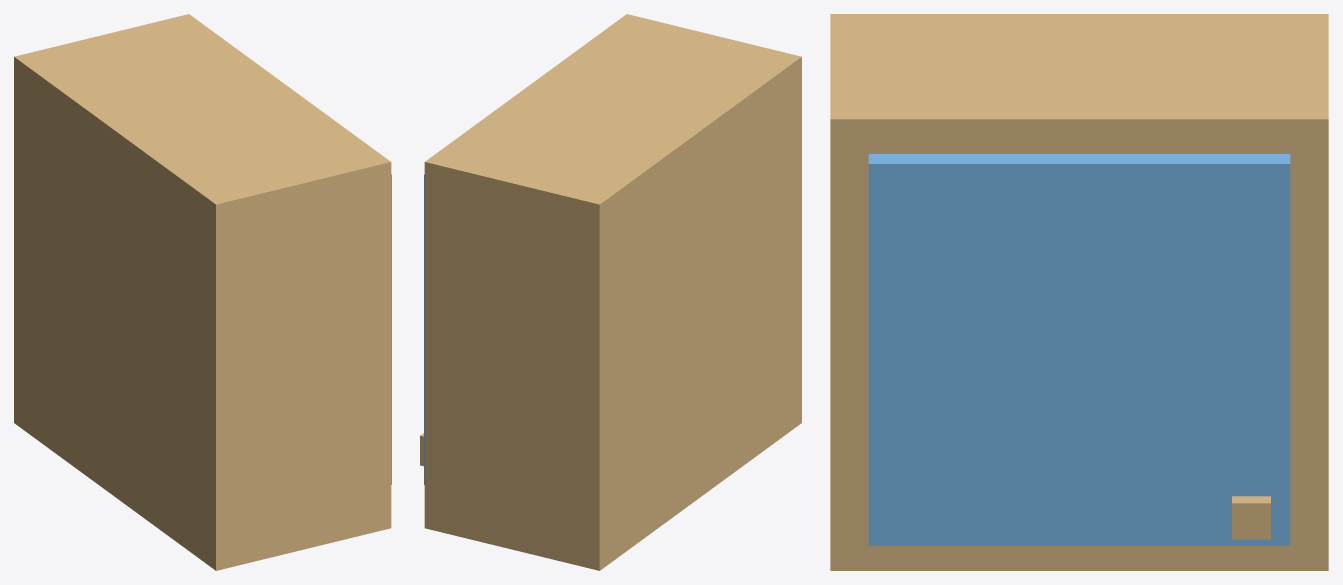
File: Cabinet_1Door.fbx
The picture shows the model from 3 angles, left to right: view 1: azimuth 30°, elevation 25°; view 2: azimuth 150°, elevation 25°; view 3: azimuth 270°, elevation 25°; orthographic projection. The views are drawn at different scales.
Visible parts, largest first — view 1: Cube; view 2: Cube; view 3: Cube.
Part boxes in pixels (box(x1,y1,x2,y2)): Cube: box(14, 14, 391, 570); Cube: box(420, 14, 801, 570); Cube: box(830, 14, 1328, 570).
Size of the model in its own units: 116 by 200 by 200.
